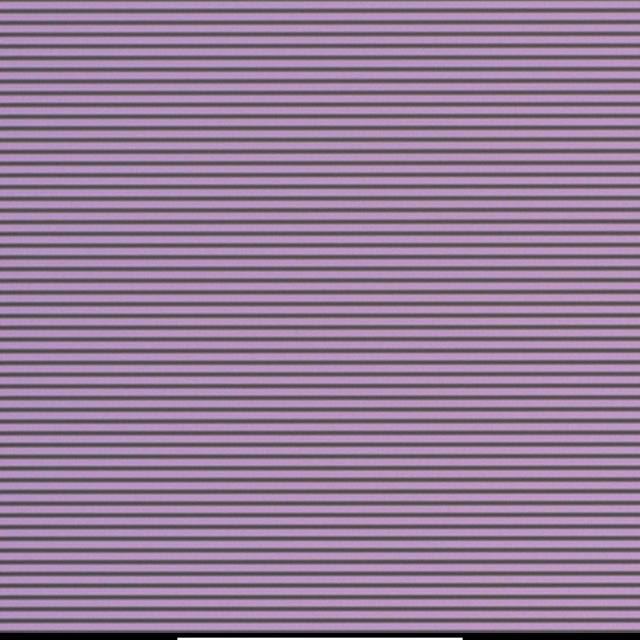nonvisual: (319, 288, 327, 294)
